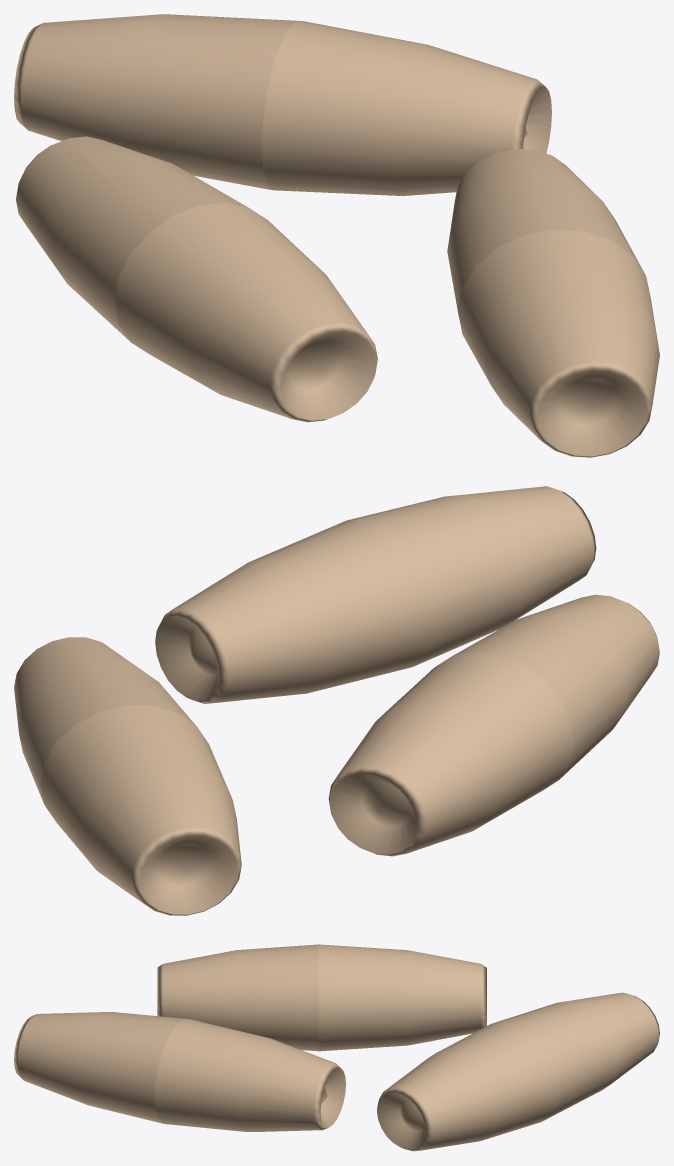
The model's file is SproutV3.obj.
3 views of the same model, one above another, from view 1: azimuth 30°, elevation 25°; view 2: azimuth 150°, elevation 25°; view 3: azimuth 270°, elevation 25° (orthographic). The views are drawn at different scales.
Parts seen in each view (by area): view 1: pSphere6; view 2: pSphere6; view 3: pSphere6.
Part boxes in pixels (x1=…): pSphere6: x1=14, y1=14, x2=659, y2=457; pSphere6: x1=14, y1=486, x2=659, y2=915; pSphere6: x1=14, y1=944, x2=659, y2=1151.
Bounding box in the file's own units: 0.5402 × 0.1496 × 0.9258.
1 material, 1 textured.
